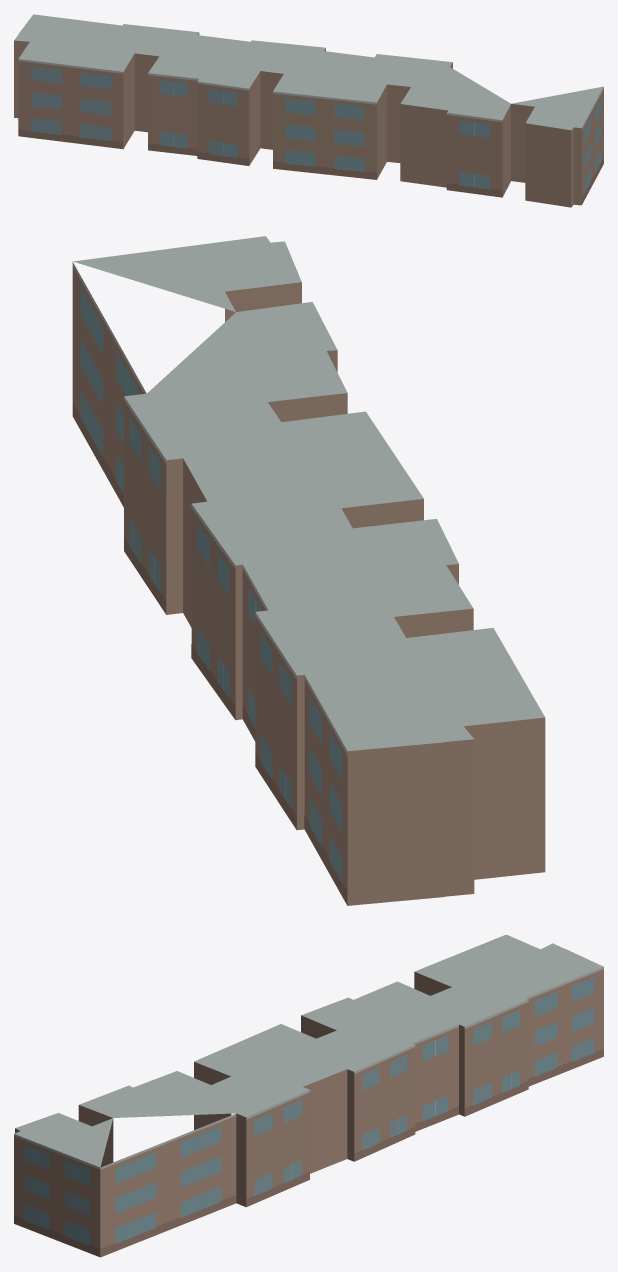
Rendered from survey-upis-32960919.glb.
The picture shows the model from 3 angles, top to bottom: view 1: azimuth 30°, elevation 25°; view 2: azimuth 150°, elevation 25°; view 3: azimuth 270°, elevation 25°; orthographic projection. The views are drawn at different scales.
Visible parts, largest first — view 1: survey-upis-32960919.tmp; view 2: survey-upis-32960919.tmp; view 3: survey-upis-32960919.tmp.
Part boxes in pixels (x1,y1,x2,y2): survey-upis-32960919.tmp: (14, 14, 603, 207); survey-upis-32960919.tmp: (72, 236, 545, 905); survey-upis-32960919.tmp: (14, 934, 603, 1257).
Bounding box in the file's own units: 50.89 × 9.15 × 54.43.
